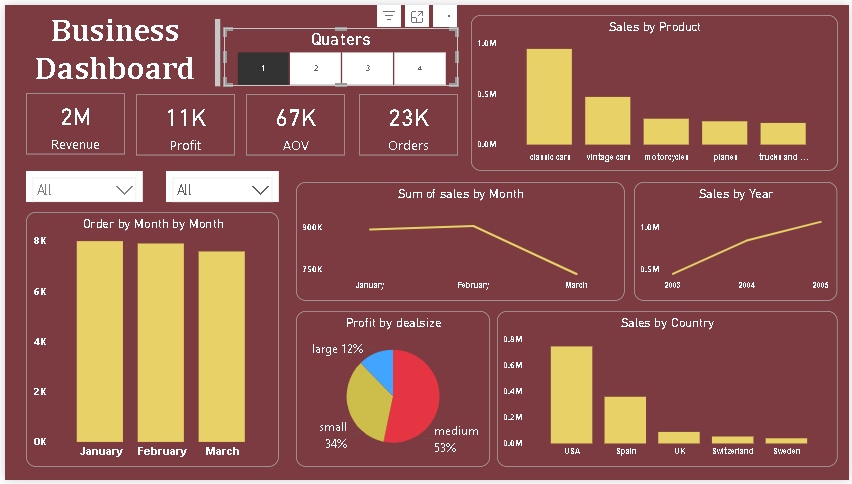

The dashboard page shown, as its layout file describes it:
{"tool":"powerbi","page":{"name":"Page 1","canvas":[1280,720],"ordinal":0},"visuals":[{"type":"lineChart","title":"Sales by Year","fields":{"Category":["Sheet1.sell_date.Variation.Date Hierarchy.Year","Sheet1.sell_date.Variation.Date Hierarchy.Quarter","Sheet1.sell_date.Variation.Date Hierarchy.Month","Sheet1.sell_date.Variation.Date Hierarchy.Day"],"Y":["Sum(Sheet1.sales)"]},"box":[953,268.2,307.6,180.3],"z":0},{"type":"columnChart","title":"Sales by Country","fields":{"Category":["Sheet1.country"],"Y":["Sum(Sheet1.sales)"]},"box":[745.7,464.3,515.7,235.7],"z":1000},{"type":"columnChart","title":"Sales by Product","fields":{"Category":["Sheet1.product"],"Y":["Sum(Sheet1.sales)"]},"box":[706.1,15.2,556.1,236.4],"z":2000},{"type":"slicer","title":"Quaters","fields":{"Values":["Sheet1.qtr_id"]},"box":[331.8,34.8,354.5,87.9],"z":3000},{"type":"card","fields":{"Values":["Sum(Sheet1.sales)"]},"box":[31.4,132.9,150,92.9],"z":4000},{"type":"card","fields":{"Values":["Sum(Sheet1.profit)"]},"box":[198.6,134.3,150,92.9],"z":5000},{"type":"card","fields":{"Values":["Sum(Sheet1.sell_price)"]},"box":[365.7,134.3,150,92.9],"z":6000},{"type":"card","fields":{"Values":["Sum(Sheet1.quantity_ordered)"]},"box":[535.7,134.3,150,92.9],"z":7000},{"type":"pieChart","title":"Profit by dealsize","fields":{"Category":["Sheet1.dealsize"],"Y":["Sum(Sheet1.profit)"]},"box":[440.9,463.6,293.9,236.4],"z":9000},{"type":"lineChart","fields":{"Y":["Sum(Sheet1.sales)"],"Category":["Sheet1.sell_date.Variation.Date Hierarchy.Month"]},"box":[440.9,268.2,498.5,180.3],"z":9001},{"type":"textbox","box":[15.2,15.2,310.6,107.6],"z":9002},{"type":"slicer","fields":{"Values":["Sheet1.sell_date.Variation.Date Hierarchy.Month"]},"box":[243.9,251.5,171.2,47],"z":9004},{"type":"slicer","fields":{"Values":["Sheet1.country"]},"box":[31.8,251.5,177.3,47],"z":9005},{"type":"lineClusteredColumnComboChart","fields":{"Category":["Sheet1.sell_date.Variation.Date Hierarchy.Month"],"Y":["Sum(Sheet1.quantity_ordered)"]},"box":[31.8,313.6,383.3,386.4],"z":9006}]}

Visuals, with their boxes in screenshot pixels (x1, y1, x2, y2), scaled from the page's 1280x720 canvas onto the 852x484 screenshot:
"Sales by Year" lineChart: x1=634, y1=180, x2=839, y2=301
"Sales by Country" columnChart: x1=496, y1=312, x2=840, y2=471
"Sales by Product" columnChart: x1=470, y1=10, x2=840, y2=169
"Quaters" slicer: x1=221, y1=23, x2=457, y2=82
card - Sum(Sheet1.sales): x1=21, y1=89, x2=121, y2=152
card - Sum(Sheet1.profit): x1=132, y1=90, x2=232, y2=153
card - Sum(Sheet1.sell_price): x1=243, y1=90, x2=343, y2=153
card - Sum(Sheet1.quantity_ordered): x1=357, y1=90, x2=456, y2=153
"Profit by dealsize" pieChart: x1=293, y1=312, x2=489, y2=471
lineChart - Sum(Sheet1.sales) x Sheet1.sell_date.Variation.Date Hierarchy.Month: x1=293, y1=180, x2=625, y2=301
textbox: x1=10, y1=10, x2=217, y2=83
slicer - Sheet1.sell_date.Variation.Date Hierarchy.Month: x1=162, y1=169, x2=276, y2=201
slicer - Sheet1.country: x1=21, y1=169, x2=139, y2=201
lineClusteredColumnComboChart - Sheet1.sell_date.Variation.Date Hierarchy.Month x Sum(Sheet1.quantity_ordered): x1=21, y1=211, x2=276, y2=471
